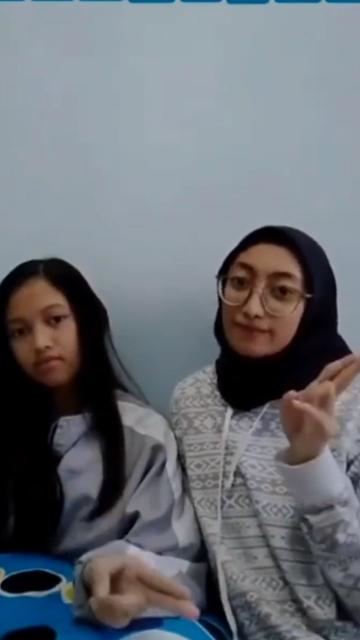H: (81, 544, 207, 634)
